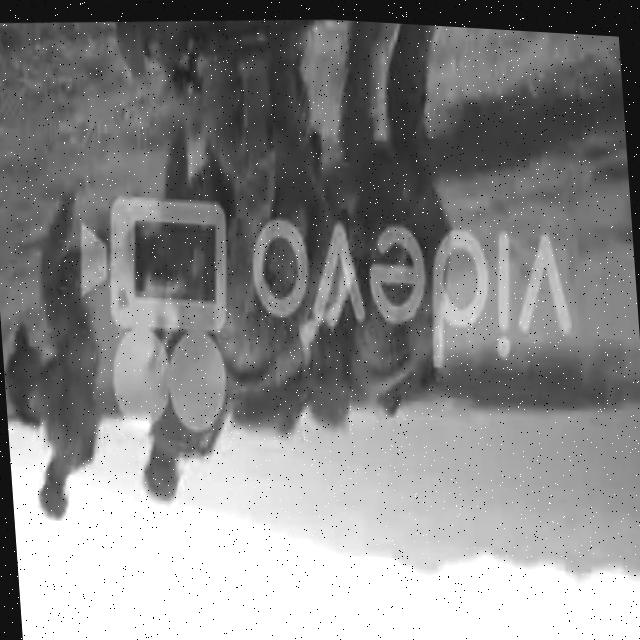rocket: (107, 5, 389, 96)
